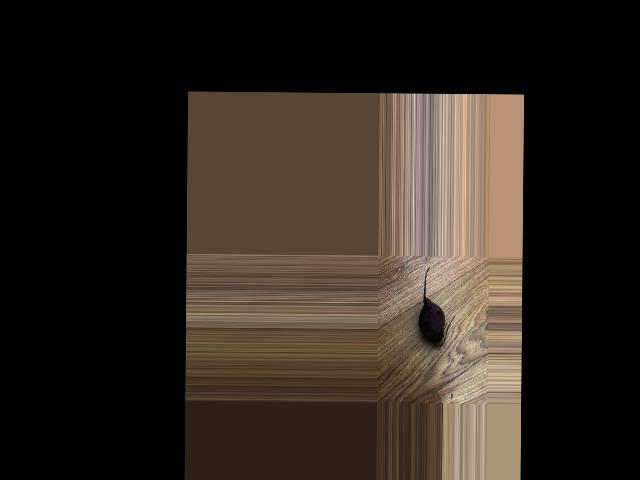beet: (418, 266, 454, 346)
